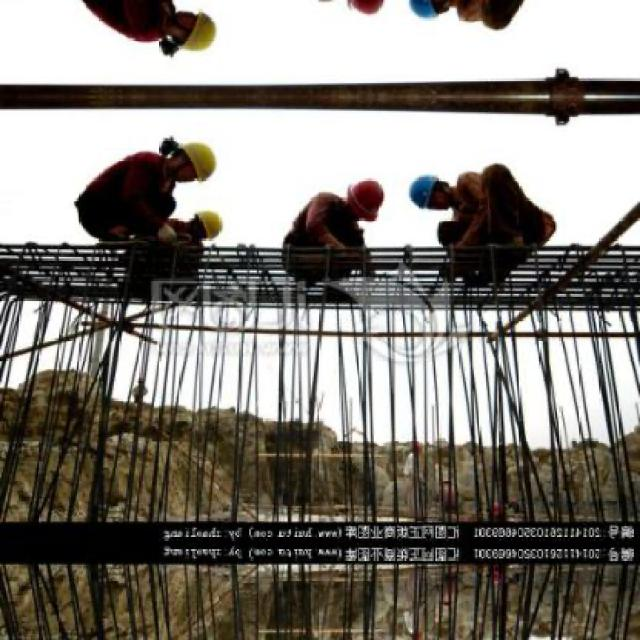con casco: (127, 139, 220, 219), (414, 149, 489, 239), (324, 162, 407, 243), (180, 201, 266, 270)
